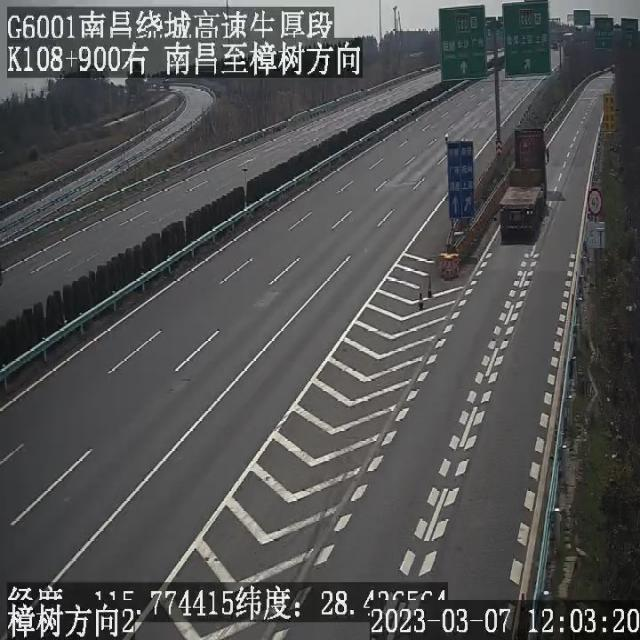cover: (535, 33, 567, 70), (479, 39, 504, 72)
point: (586, 58, 619, 96), (149, 75, 179, 102)
